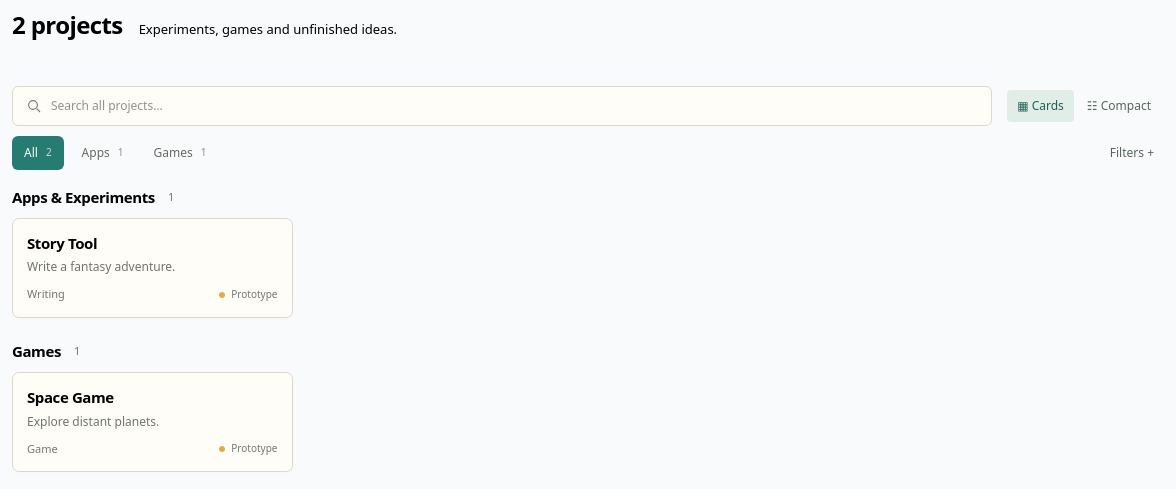
Test case: combines group filtering and search, then restores the collection after no results
Click the button "Games 1".
click(180, 152)  # box [142,136,218,170]
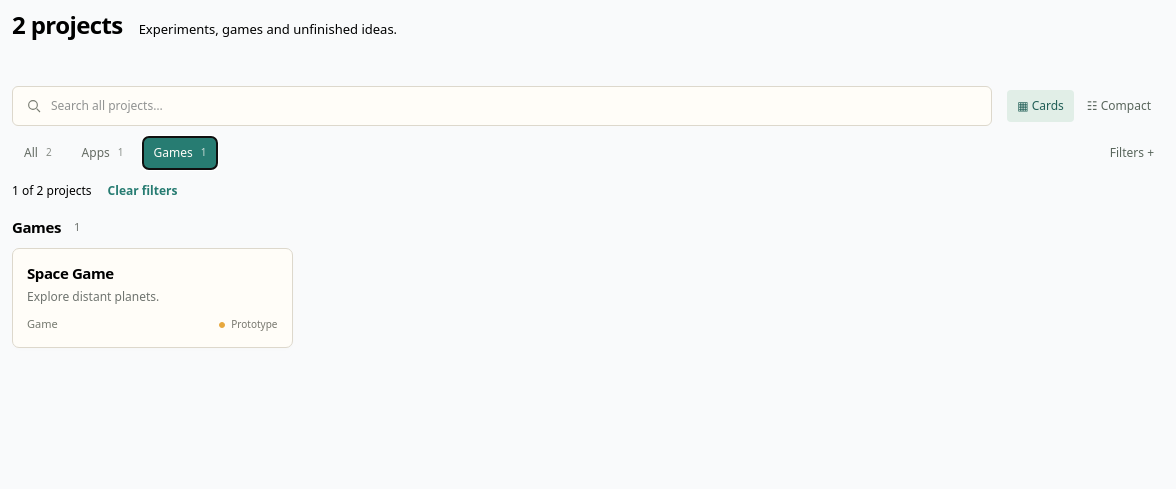
Now the link "Story Tool" is gone
Type "fantasy" into the search field.
click(515, 106); type("fantasy")  # box [51,96,978,114]
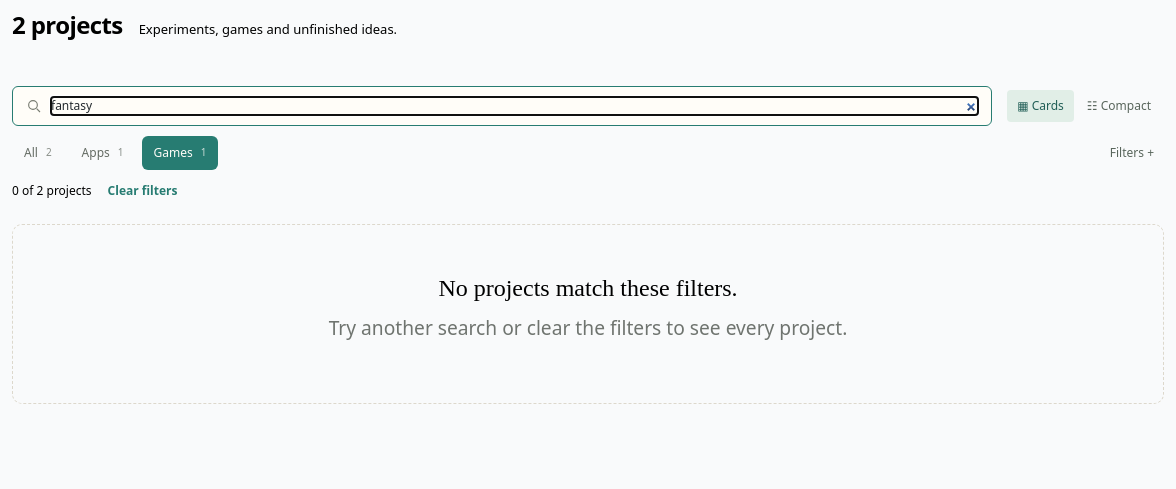
Now the message reads "0 of 2 projects", box [12,182,92,200]
Now the heading "No projects match these filters." is shown, box [438,274,738,300]
Click the button "Clear filters".
click(143, 190)  # box [108,182,178,200]
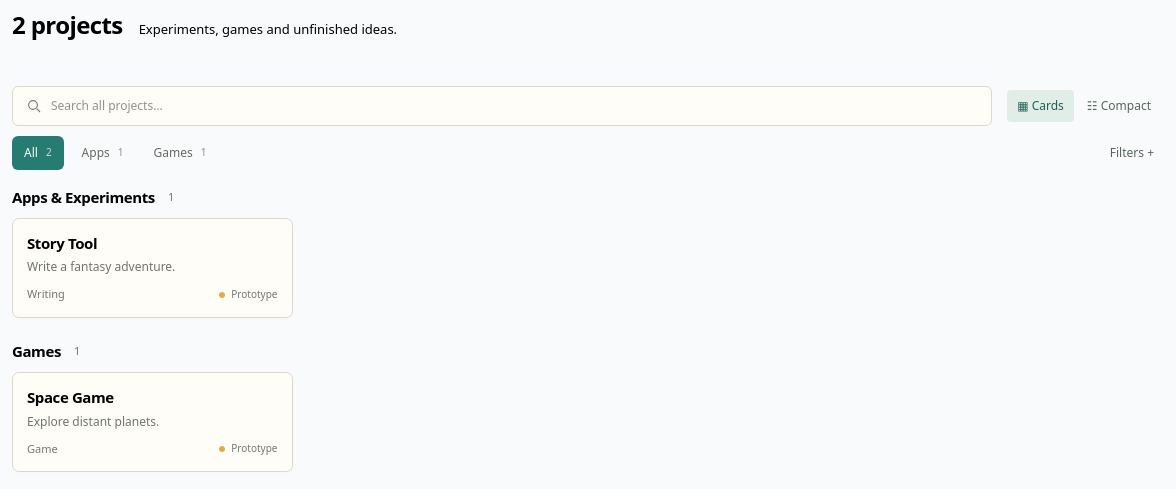
Now the link "Story Tool" is shown, box [27,233,97,253]
Now the link "Space Game" is shown, box [27,387,114,407]
